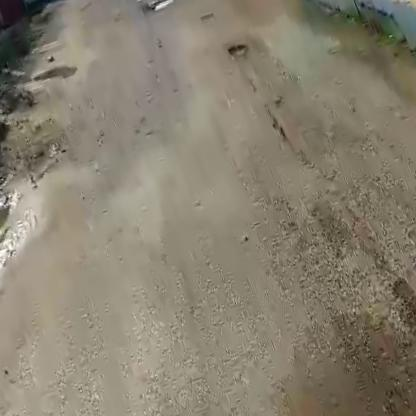pothole: (227, 38, 253, 62), (148, 0, 180, 15)
